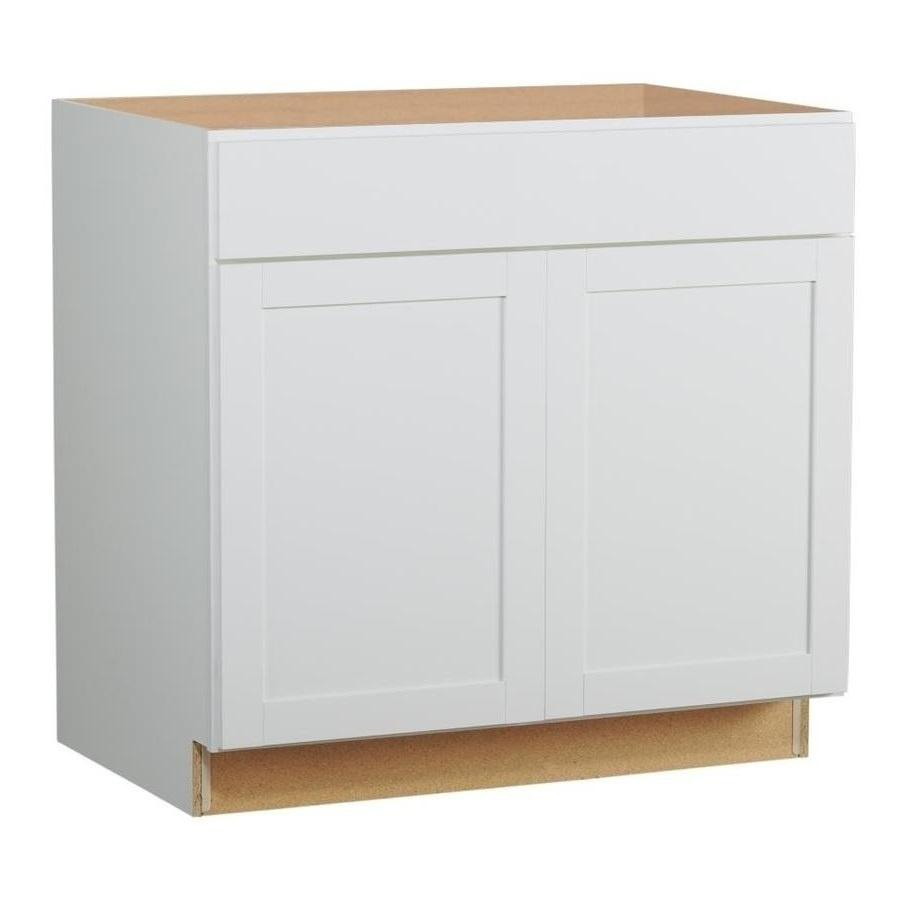cabinet_door: (224, 268, 543, 744), (545, 255, 845, 715)
